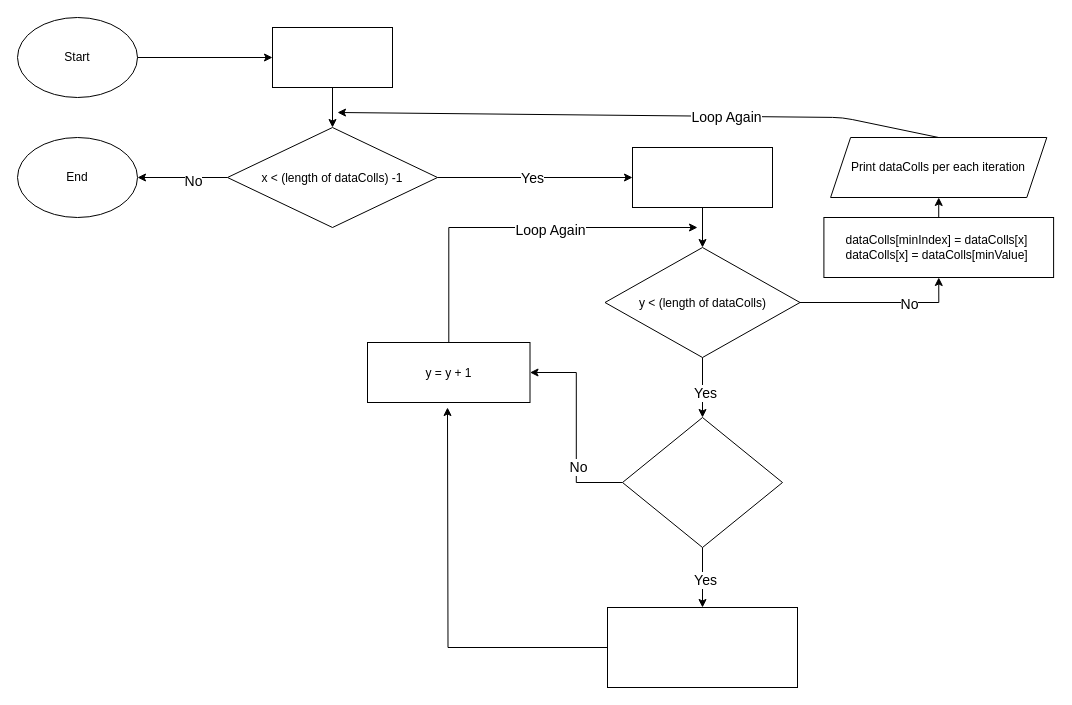
Some shapes in this 1072 by 705 pixel diagram are drawn without their labels. The shapes that lost their labels are listed below. From the top down, each one's centre as x and y in pixels, then its label:
[332,57]: x = 0
[702,177]: minIndex = x minValue = dataColls[x] y = x +1
[702,482]: dataColls[y] < minValue
[702,647]: minIndex = y minValue = dataColls[y]
